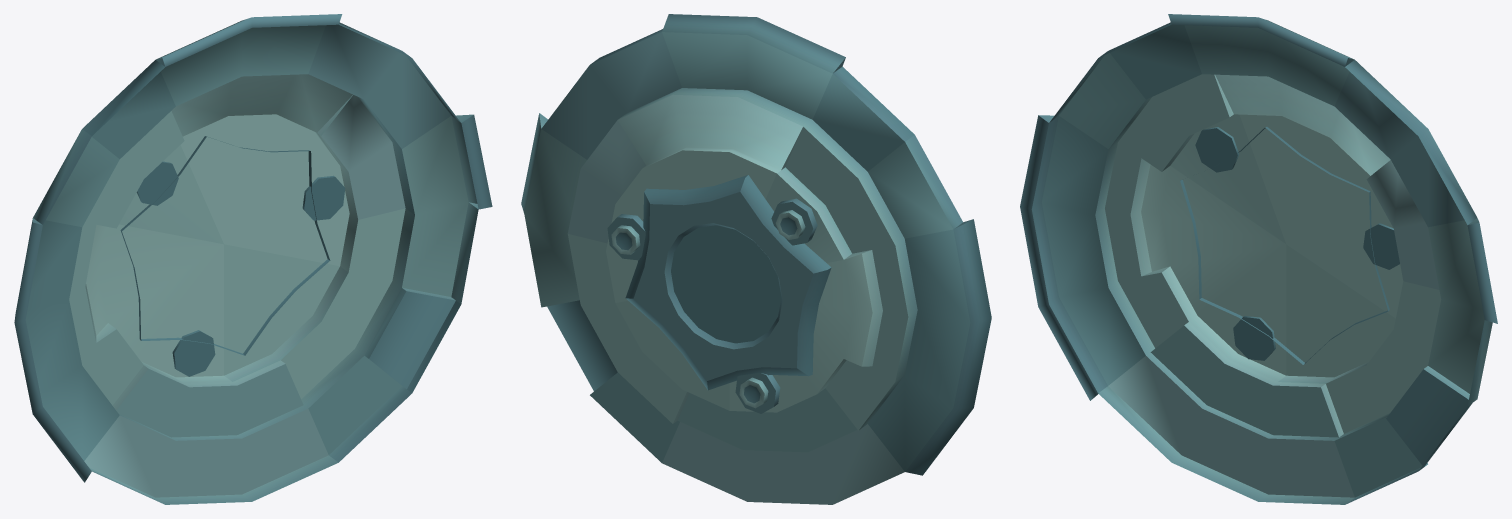
Rendered from Waypoint 01.FBX.
3 views of the same model, side by side, from view 1: azimuth 30°, elevation 25°; view 2: azimuth 150°, elevation 25°; view 3: azimuth 330°, elevation 25° (orthographic).
Visible parts, largest first — view 1: Waypoint 01; view 2: Waypoint 01; view 3: Waypoint 01.
Part boxes in pixels (<box>): Waypoint 01: <box>14,14,492,504</box>; Waypoint 01: <box>521,14,991,504</box>; Waypoint 01: <box>1020,14,1497,504</box>.
Size of the model in its own units: 712 by 690 by 94.07.
1 material, 1 textured.
